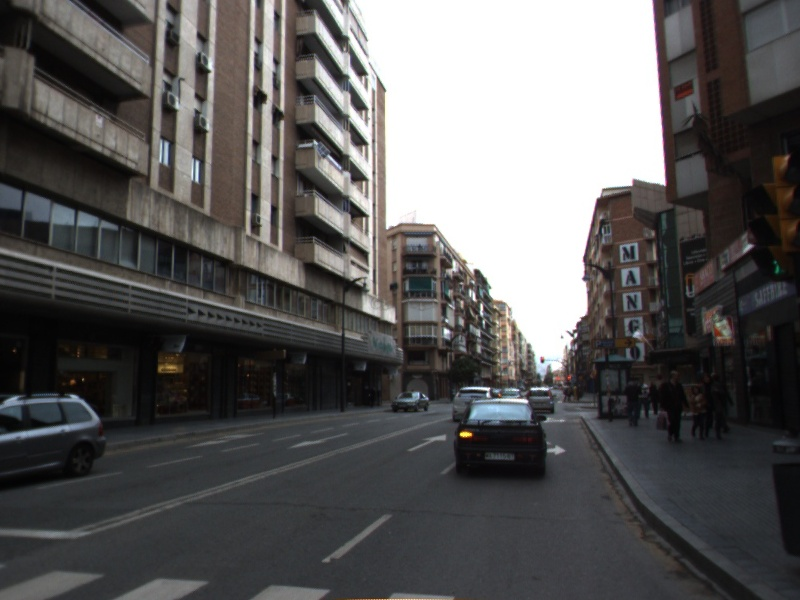STRAIGHT: (405, 432, 448, 453)
